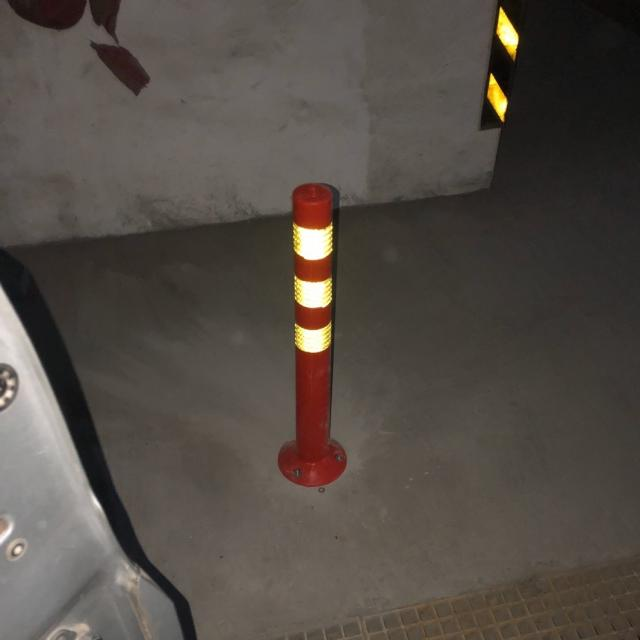warning_column: (267, 182, 350, 484)
